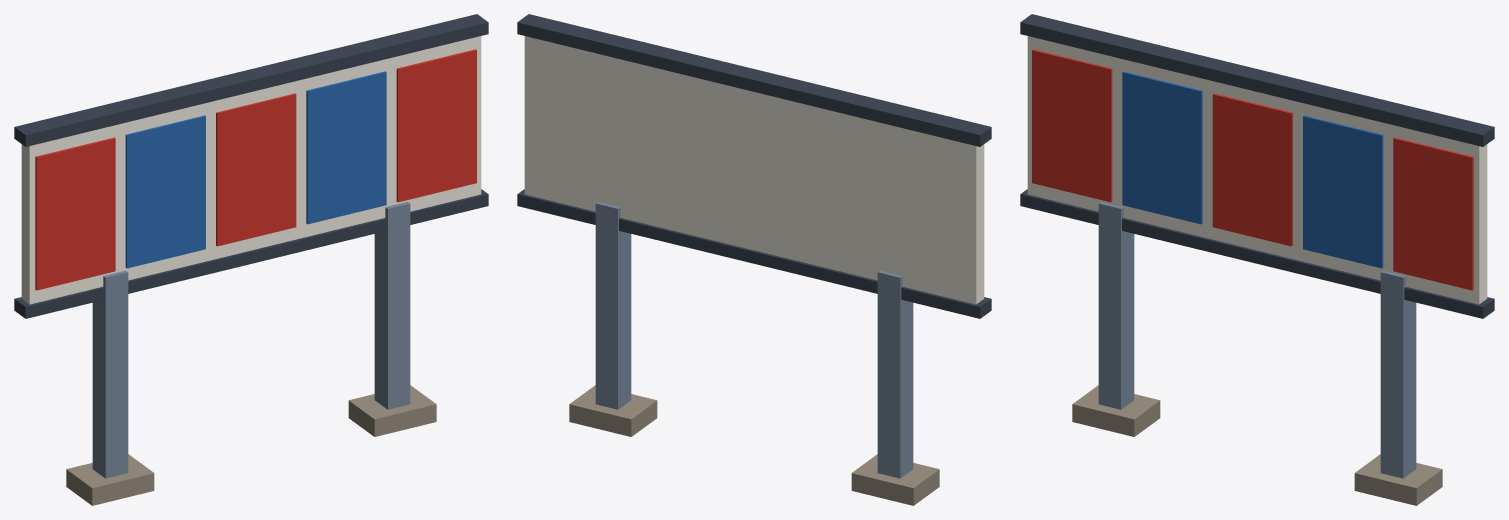
Rendered from billboard.glb.
3 renders of one model, left to right at view 1: azimuth 30°, elevation 25°; view 2: azimuth 150°, elevation 25°; view 3: azimuth 330°, elevation 25°, orthographic.
Parts seen in each view (by area): view 1: billboard_red, billboard_blue, billboard_white, billboard_steelDark, billboard_steel, billboard_concreteDark; view 2: billboard_white, billboard_steelDark, billboard_steel, billboard_concreteDark; view 3: billboard_red, billboard_blue, billboard_white, billboard_steelDark, billboard_steel, billboard_concreteDark.
Part boxes in pixels (x1,y1,x2,y2): billboard_red: (35,49,476,290); billboard_blue: (125,71,386,268); billboard_white: (21,36,481,304); billboard_steelDark: (14,14,488,318); billboard_steel: (92,201,410,478); billboard_concreteDark: (66,385,436,505); billboard_white: (524,36,984,304); billboard_steelDark: (517,14,991,318); billboard_steel: (595,201,913,478); billboard_concreteDark: (569,385,939,505); billboard_red: (1032,49,1473,290); billboard_blue: (1122,71,1383,268); billboard_white: (1027,36,1487,304); billboard_steelDark: (1020,14,1494,318); billboard_steel: (1098,201,1416,478); billboard_concreteDark: (1072,385,1442,505).
Size of the model in its own units: 16.4 by 12.86 by 1.6.
